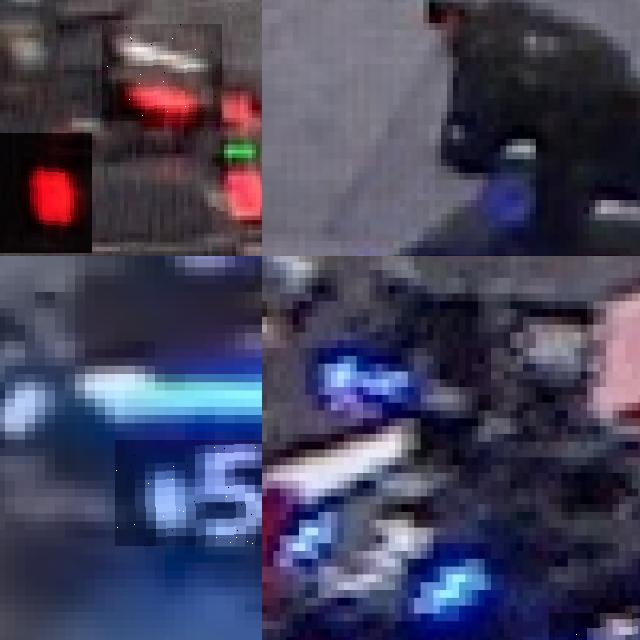B5: (115, 439, 262, 546)
R1: (102, 24, 222, 122), (0, 133, 92, 253)
